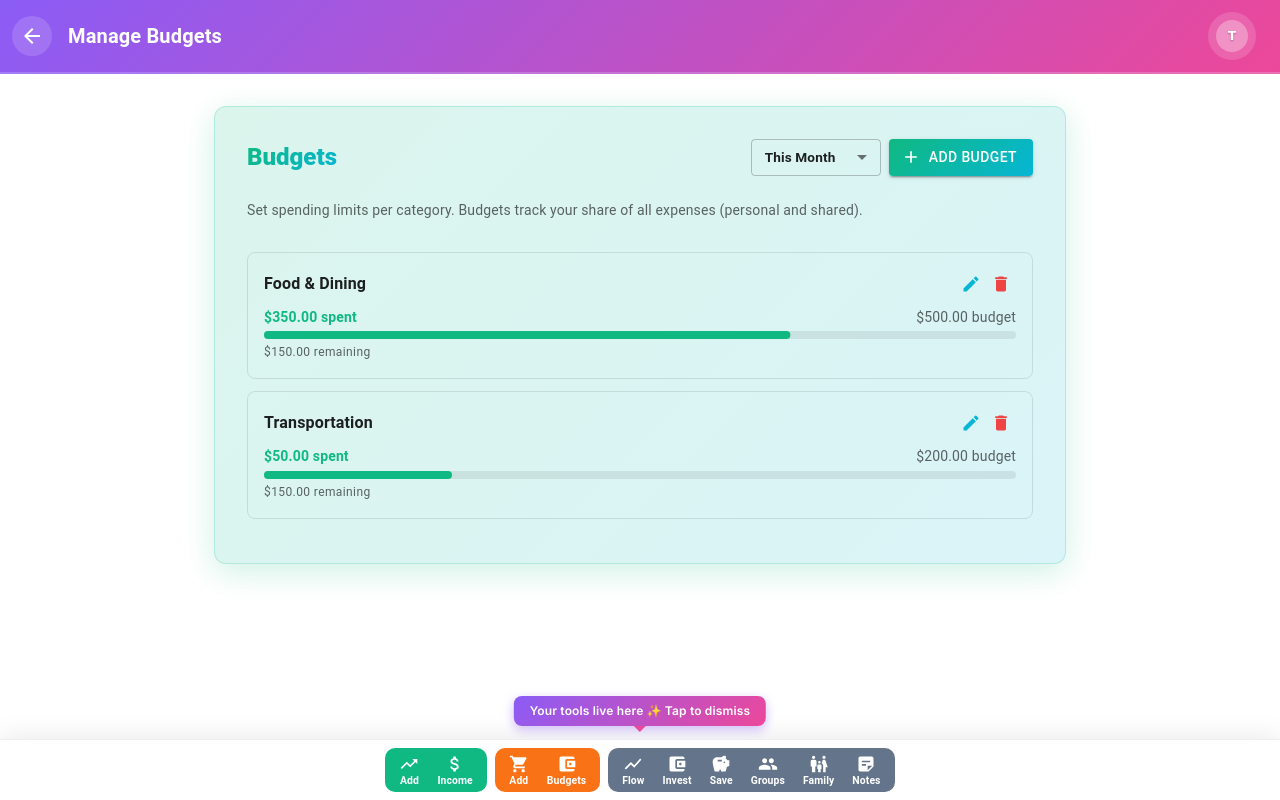
ManageBudgets Page › should open add budget dialog when clicking Add Budget
Expected: the text "Food & Dining" is shown, [264,272,366,296]
What coordinates should you click on to do the following:
click the button "Add Budget"
I would click on:
 (961, 157)
Its box is [889,139,1033,176].
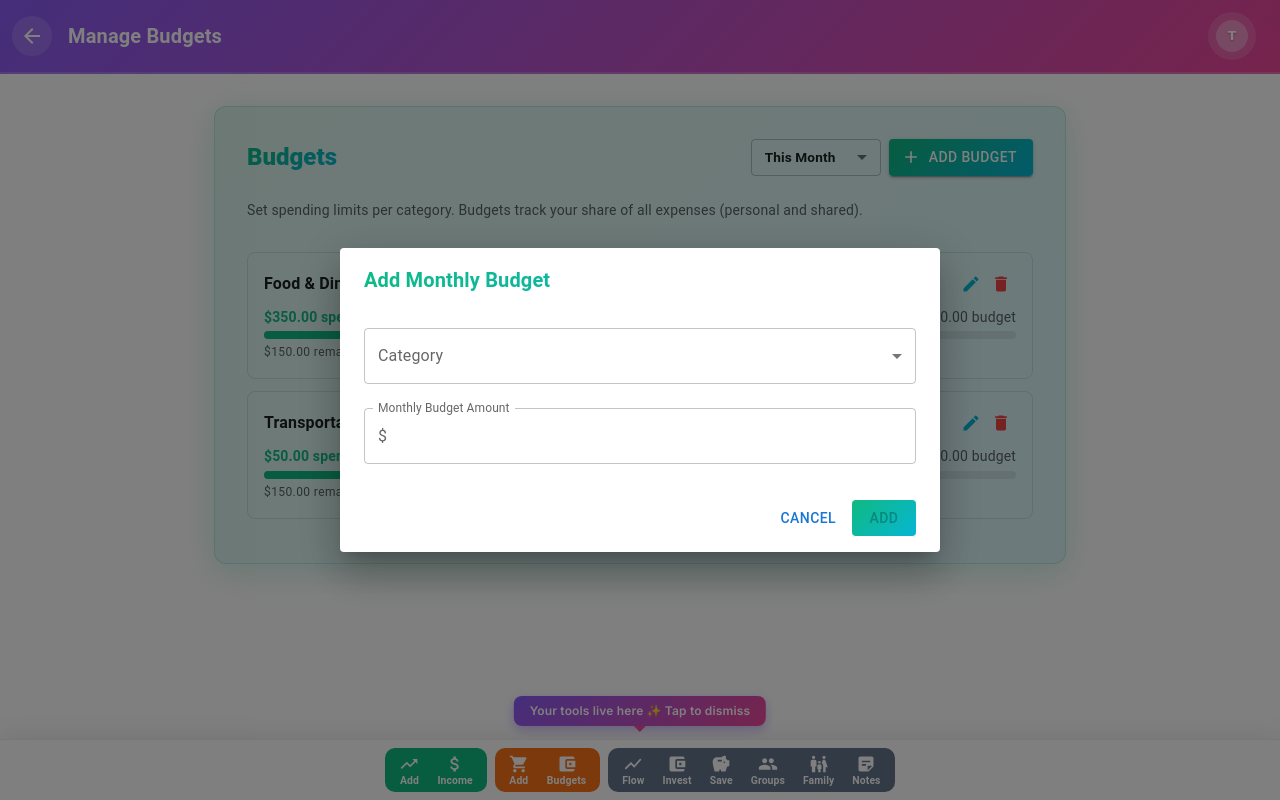
Result: the button "Cancel" is shown at [772,500,844,536]
